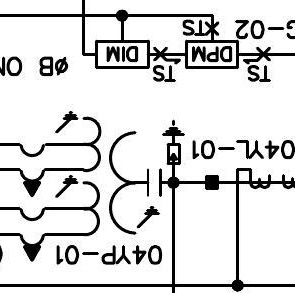115_cvt_1p: (17, 110, 163, 262)
115_la: (161, 119, 186, 165)
DIM: (95, 39, 150, 69)
DPM: (185, 40, 239, 69)
